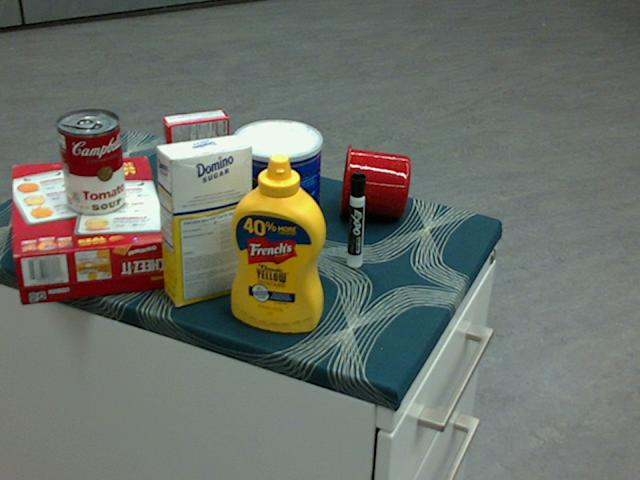cracker_box: (11, 154, 173, 304)
gelatin_box: (162, 109, 228, 171)
large_marker: (348, 171, 366, 267)
master_chef_can: (231, 118, 320, 263)
mug: (338, 143, 409, 217)
mustard_bottle: (231, 152, 326, 332)
potted_meat_can: (218, 128, 299, 214)
sugar_box: (155, 134, 252, 305)
tomato_soup_can: (56, 109, 125, 215)
tuna_fish_can: (158, 158, 186, 227)
